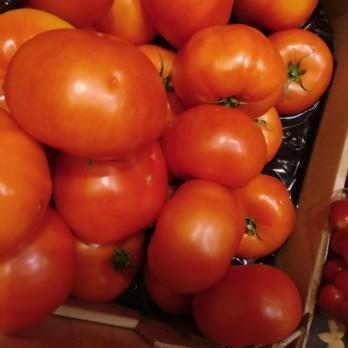Tomato: (0, 0, 305, 348)
